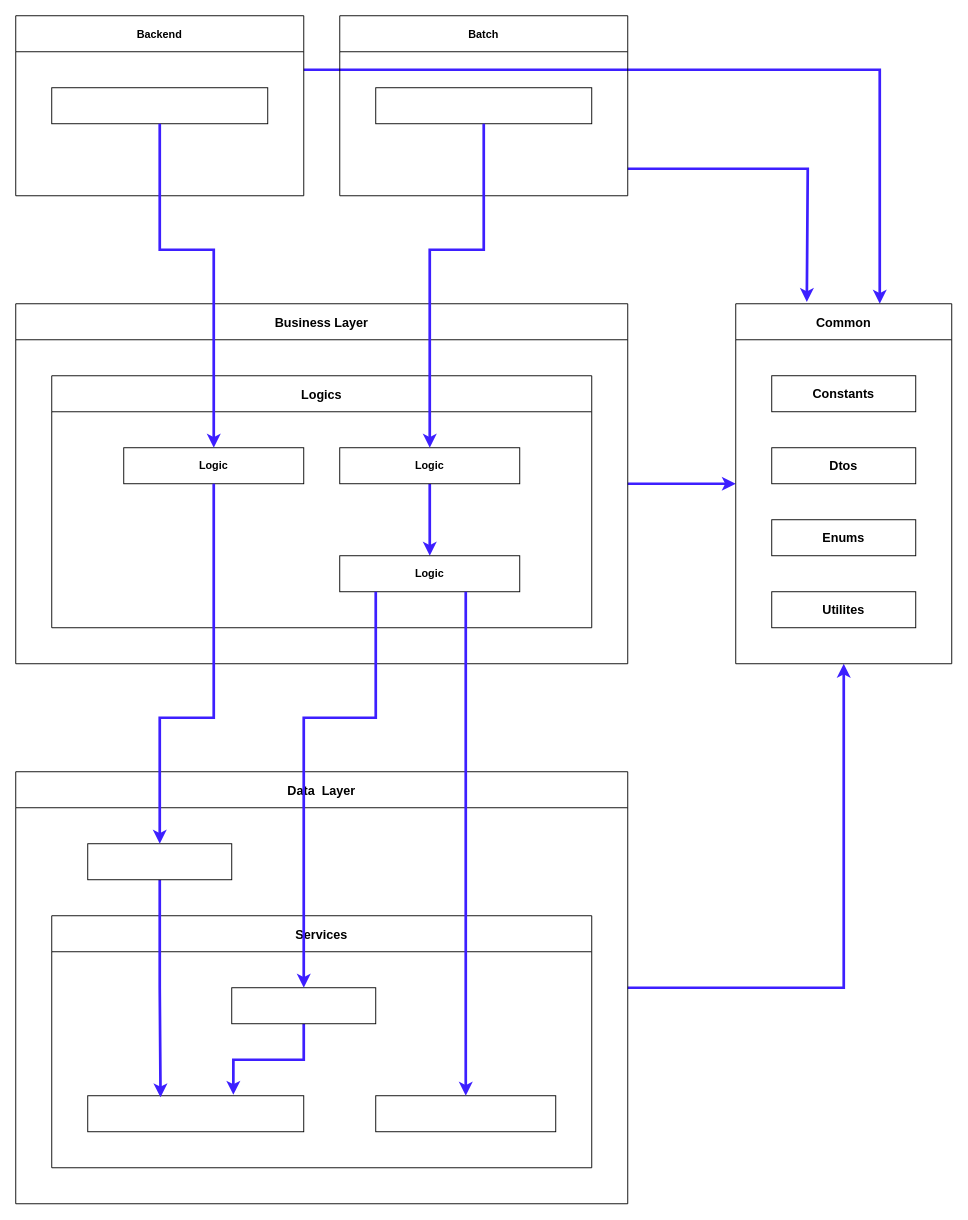
Some shapes in this 968 by 1220 pixel diagram are drawn without their labels. The shapes that lost their labels are listed below. From the top down, each one's centre as x and y in pixels, then its label:
At point 159,105: "Controller".
At point 483,105: "Runner".
At point 159,861: "Repositories".
At point 303,1005: "Dapper".
At point 195,1113: "DbContext".
At point 465,1113: "Redis / FTP / HTTP".
